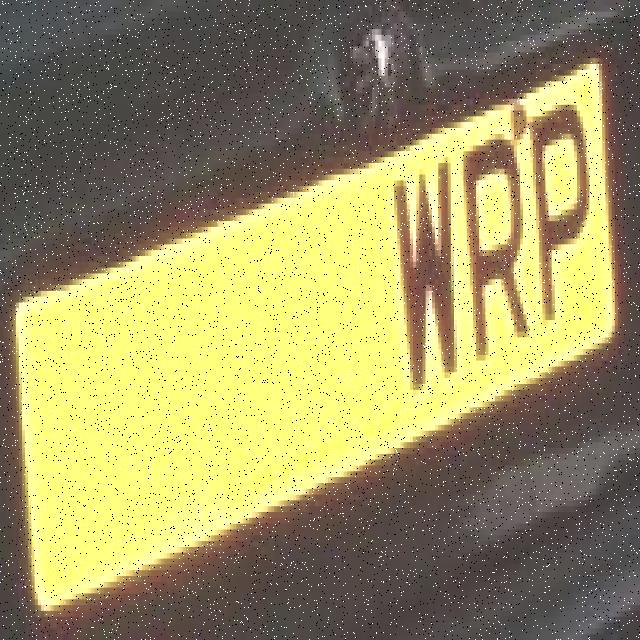licenseplate: (8, 33, 622, 612)
